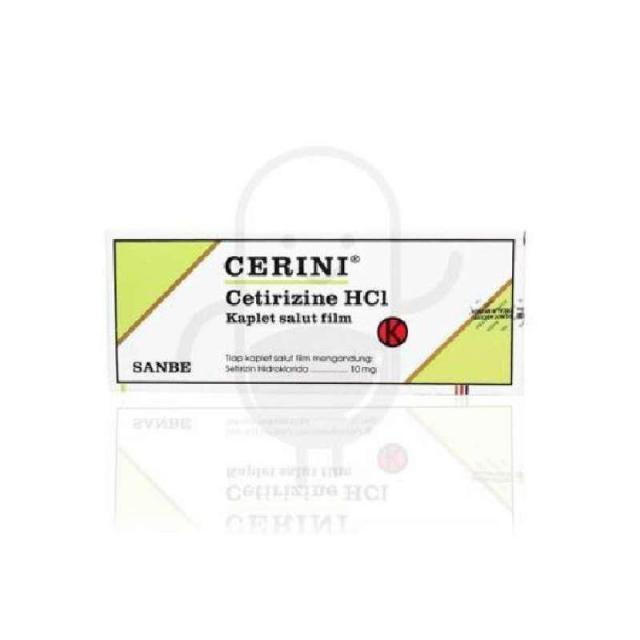drug-name: (222, 250, 359, 278)
